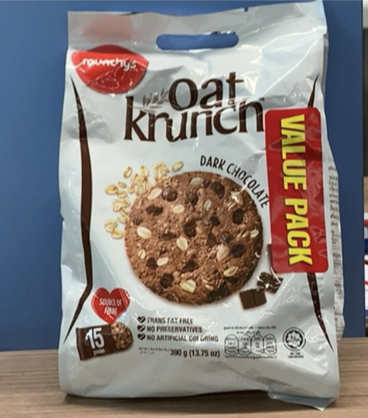cookies_300g-399g: (73, 38, 320, 377)
